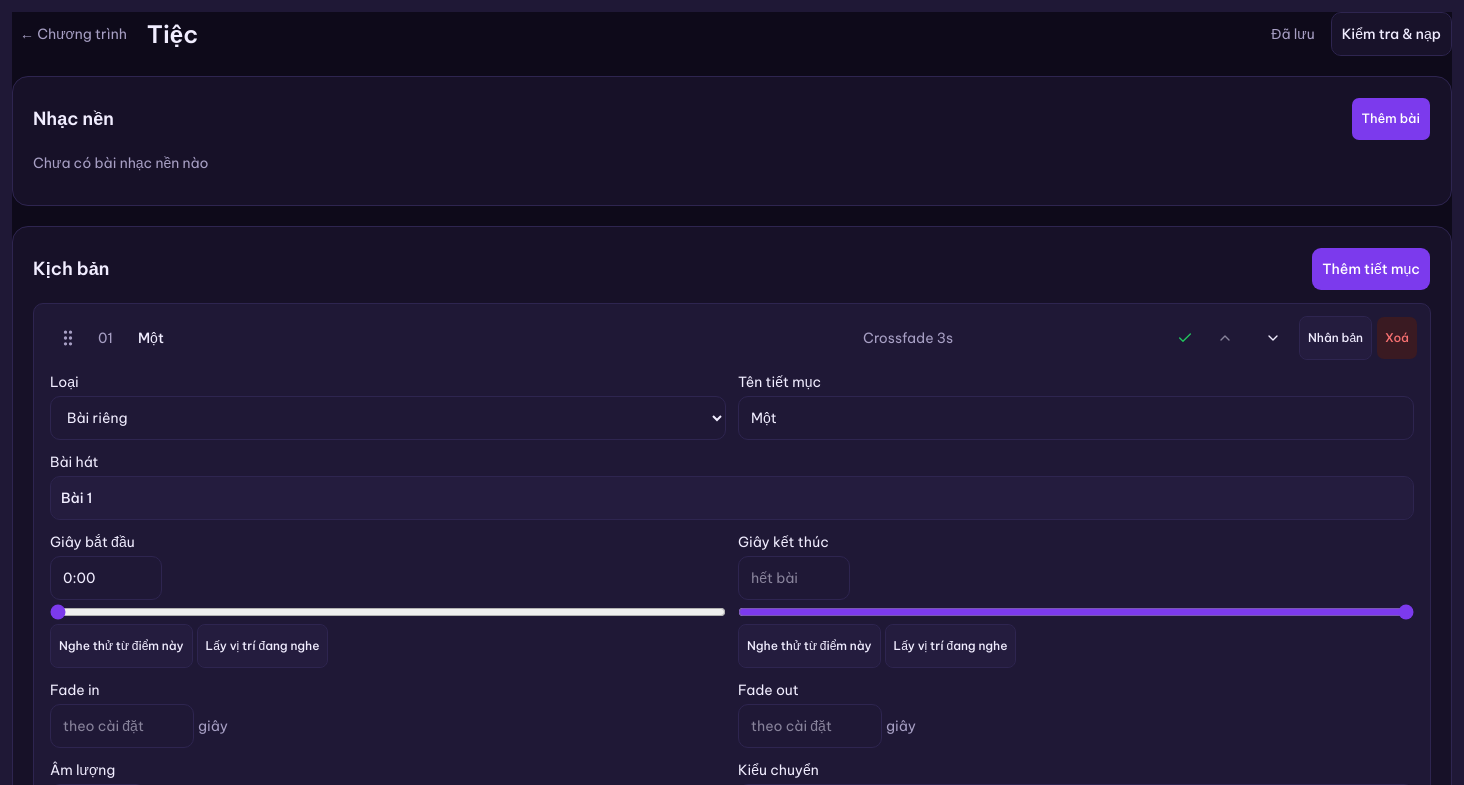
Scenario: EditorClient › a failed post-insert cue reorder shows Lỗi lưu, and its retry pushes the current order
// Duplicate the first cue: the copy is inserted in the middle, so the order must be pushed.
Click the button "Nhân bản" at (1336,338), box [1299, 316, 1372, 360]
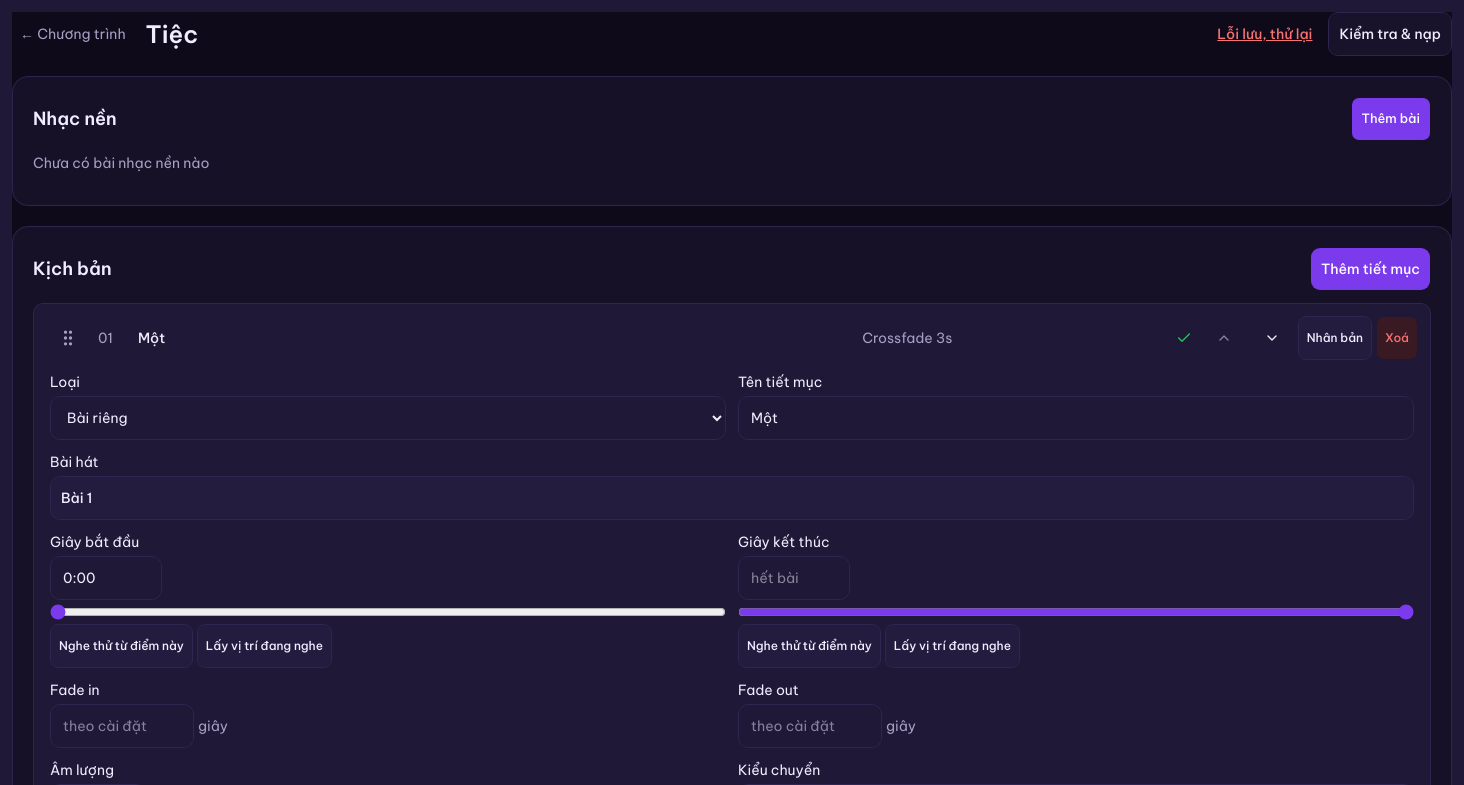
Expected: the button with test id "save-indicator" reads "Lỗi lưu, thử lại"
Click the button with test id "save-indicator" at (1265,34), box [1217, 24, 1312, 44]
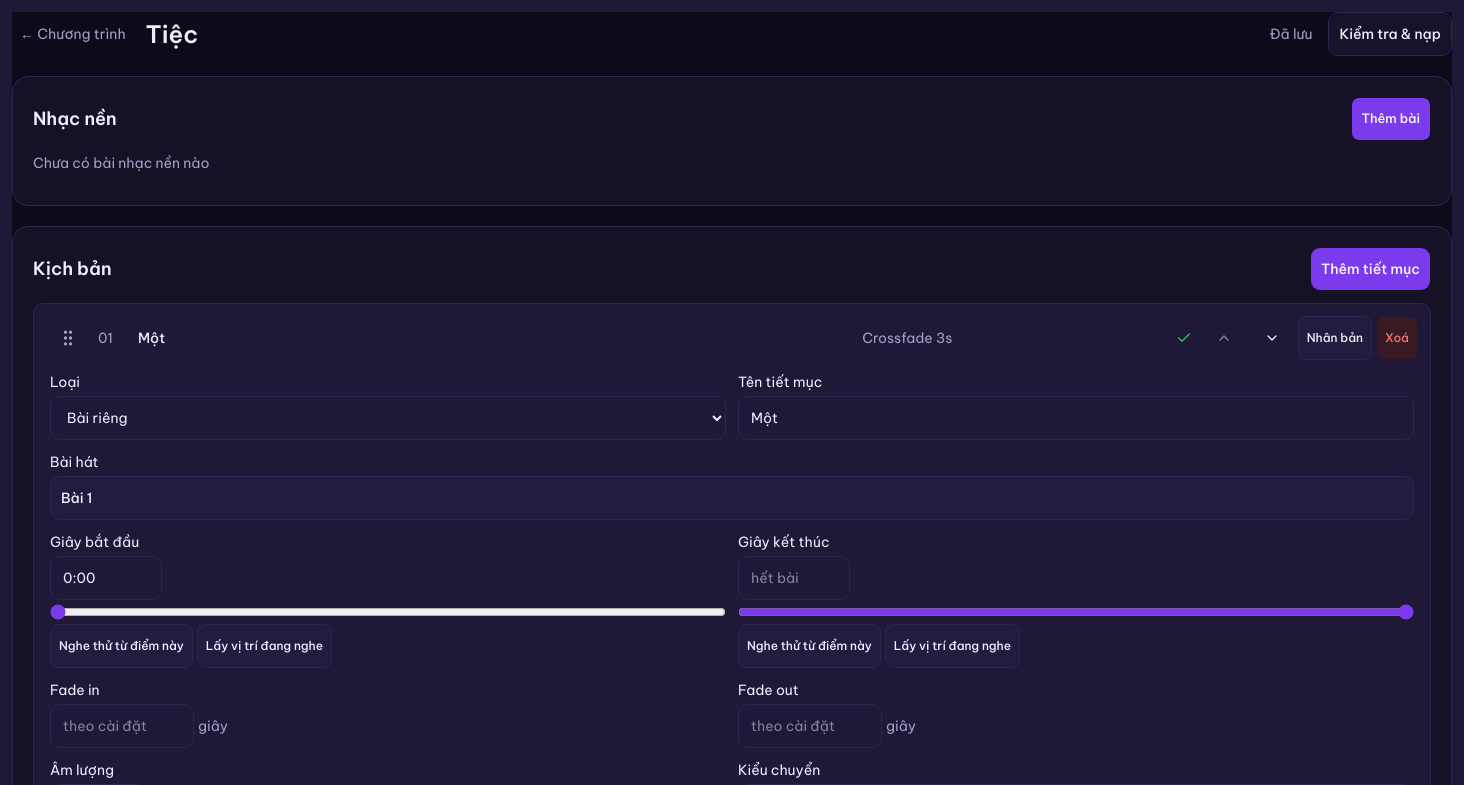
Expected: the message with test id "save-indicator" reads "Đã lưu", [1270, 25, 1312, 43]
